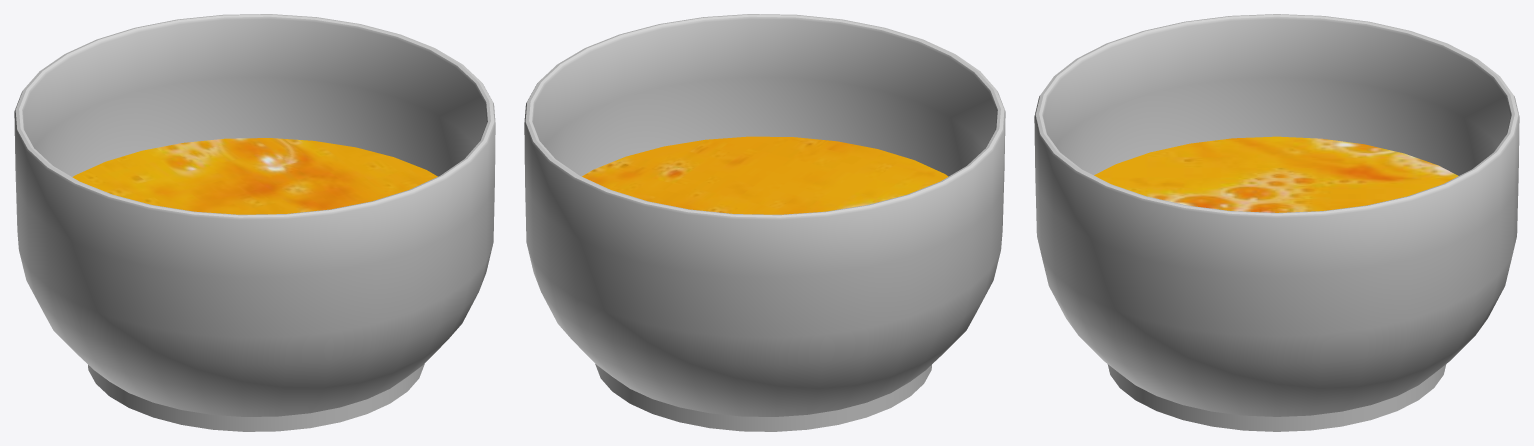
The model's file is huevos batidos bowl 1.fbx.
3 views of the same model, side by side, from view 1: azimuth 30°, elevation 25°; view 2: azimuth 150°, elevation 25°; view 3: azimuth 270°, elevation 25° (orthographic).
Parts seen in each view (by area): view 1: Cylinder.001, Cone; view 2: Cylinder.001, Cone; view 3: Cylinder.001, Cone.
Boxes of the visible parts, x1=… form: Cylinder.001: x1=14, y1=14, x2=495, y2=431; Cone: x1=72, y1=138, x2=437, y2=214; Cylinder.001: x1=524, y1=14, x2=1005, y2=431; Cone: x1=582, y1=136, x2=948, y2=214; Cylinder.001: x1=1034, y1=14, x2=1519, y2=431; Cone: x1=1094, y1=136, x2=1458, y2=212.
Size of the model in its own units: 6.09 by 3.44 by 6.11.
Materials: 2 (1 with a texture image).
